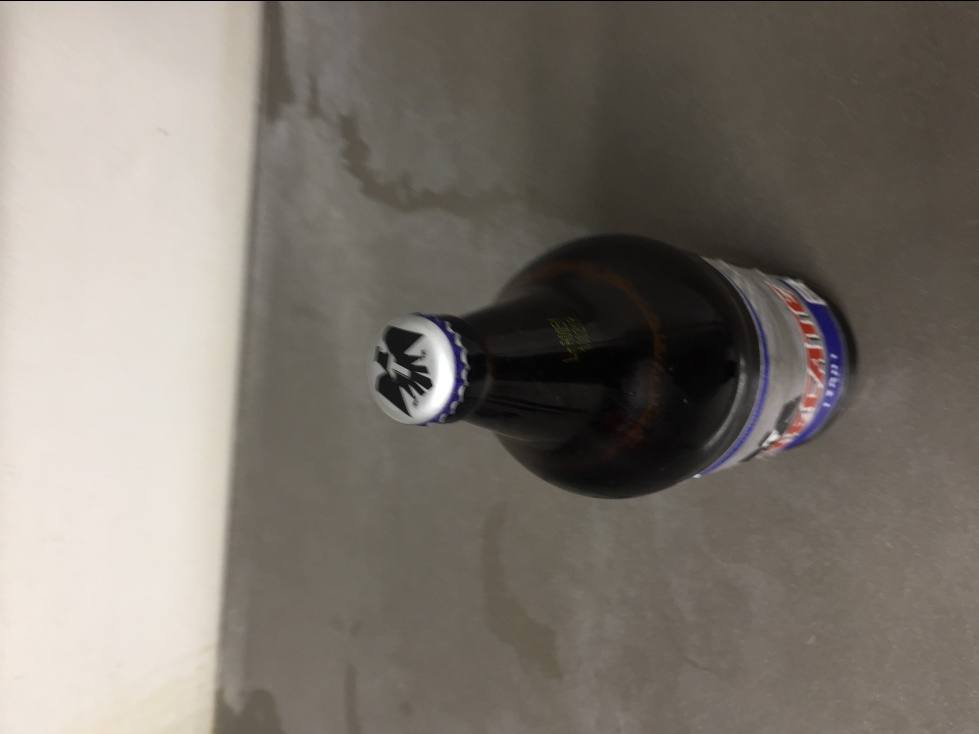tecateC: (367, 231, 861, 500)
